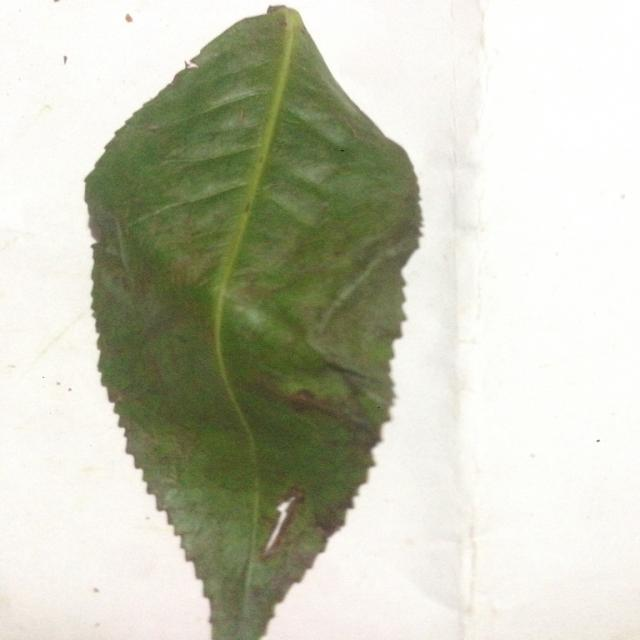Red Leaf Spot: (76, 3, 426, 640)
